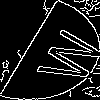W: (25, 25, 100, 87)
